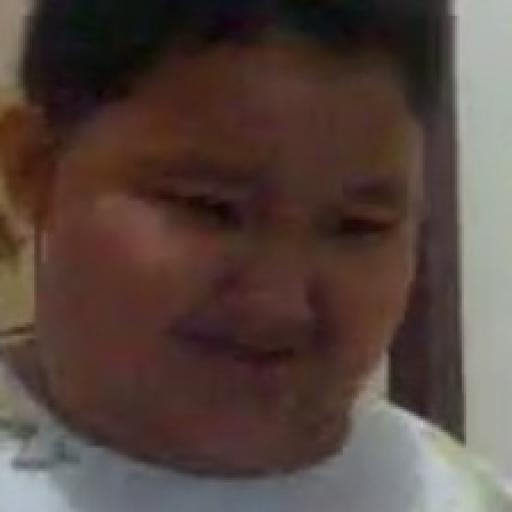Autism: (29, 0, 420, 512)
